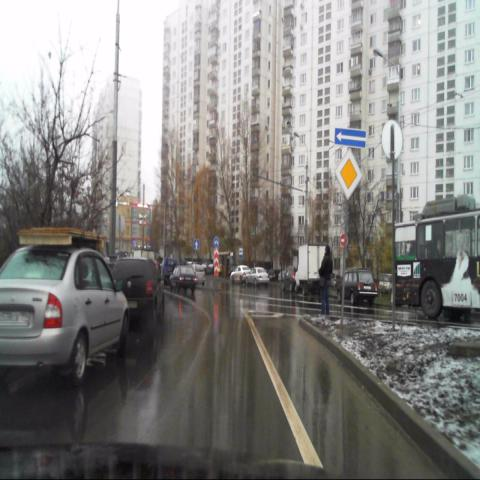5_7_2: (334, 126, 366, 150)
